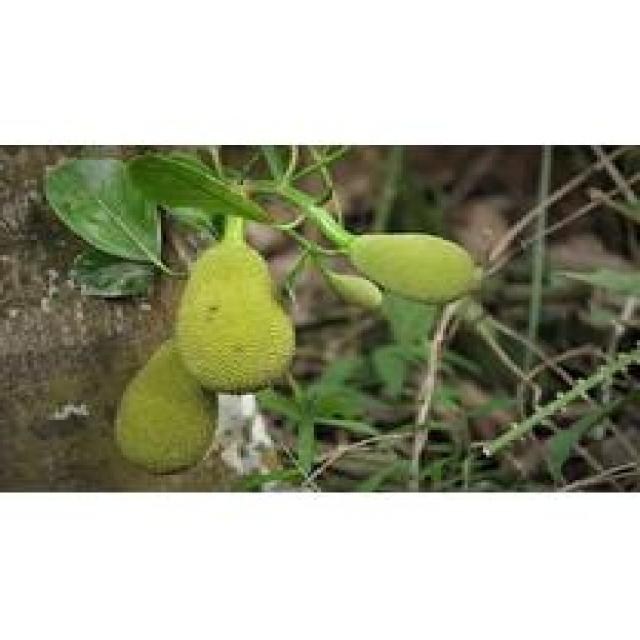Fruit: (92, 210, 317, 425), (323, 215, 489, 317)
